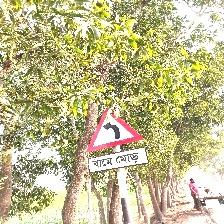Left-Turn: (85, 107, 149, 173)
